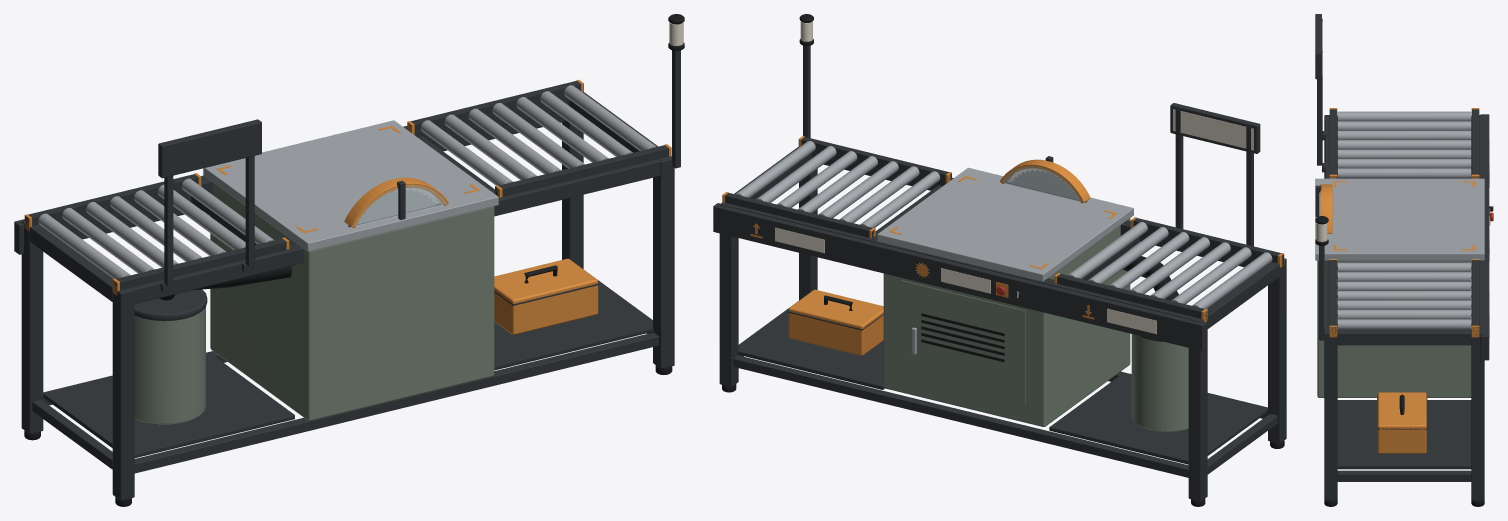
Rendered from Saege01.glb.
3 views of the same model, side by side, from view 1: azimuth 30°, elevation 25°; view 2: azimuth 150°, elevation 25°; view 3: azimuth 270°, elevation 25° (orthographic). The views are drawn at different scales.
Visible parts, largest first — view 1: Saege01__SteelDark, Saege01__SteelGreen, Saege01__BareSteel, Saege01__SafetyOrange, Saege01__ClearGuard, Saege01__Black, Saege01__Blade__BareSteel; view 2: Saege01__SteelDark, Saege01__BareSteel, Saege01__SteelGreen, Saege01__SafetyOrange, Saege01__WallWhite, Saege01__Black, Saege01__ClearGuard, Saege01__Blade__BareSteel; view 3: Saege01__BareSteel, Saege01__SteelDark, Saege01__SteelGreen, Saege01__SafetyOrange, Saege01__Black, Saege01__StatusLamp__WallWhite.
Boxes of the visible parts, x1,y1,x2,y2 form: Saege01__SteelDark: (14, 50, 680, 500); Saege01__SteelGreen: (134, 182, 494, 424); Saege01__BareSteel: (38, 85, 656, 278); Saege01__SafetyOrange: (24, 79, 671, 334); Saege01__ClearGuard: (354, 185, 446, 226); Saege01__Black: (24, 14, 684, 506); Saege01__Blade__BareSteel: (357, 189, 435, 224); Saege01__SteelDark: (713, 45, 1286, 501); Saege01__BareSteel: (735, 141, 1272, 354); Saege01__SteelGreen: (883, 218, 1188, 431); Saege01__SafetyOrange: (722, 136, 1284, 355); Saege01__WallWhite: (775, 109, 1253, 334); Saege01__Black: (722, 14, 1284, 506); Saege01__ClearGuard: (1001, 166, 1081, 202); Saege01__Blade__BareSteel: (1011, 169, 1078, 199); Saege01__BareSteel: (1315, 111, 1484, 329); Saege01__SteelDark: (1315, 14, 1489, 500); Saege01__SteelGreen: (1317, 260, 1471, 397); Saege01__SafetyOrange: (1320, 108, 1490, 453); Saege01__Black: (1315, 116, 1492, 506); Saege01__StatusLamp__WallWhite: (1316, 222, 1327, 241).
Size of the model in its own units: 2.37 by 1.43 by 0.8.
